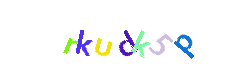5: (116, 0, 196, 80)
D: (82, 0, 162, 80)
K: (63, 0, 143, 80), (97, 0, 177, 80)
P: (145, 0, 225, 80)
R: (29, 0, 109, 80)
U: (63, 0, 143, 80)
